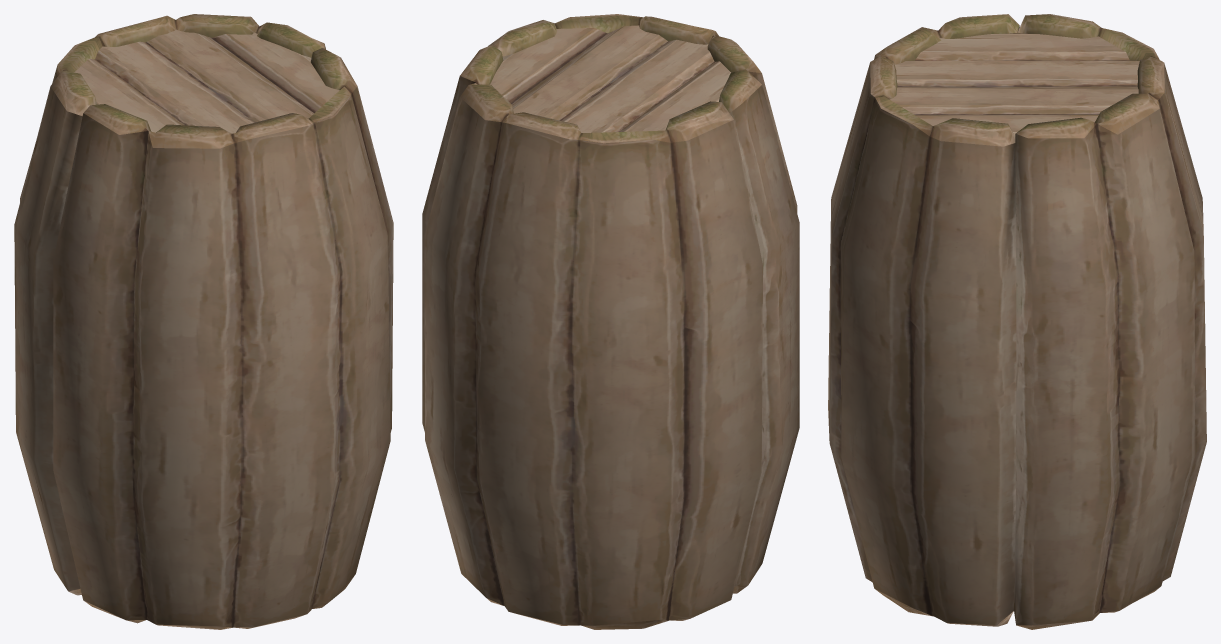
Rendered from Barrel_01.fbx.
3 views of the same model, side by side, from view 1: azimuth 30°, elevation 25°; view 2: azimuth 150°, elevation 25°; view 3: azimuth 270°, elevation 25° (orthographic).
Visible parts, largest first — view 1: Barrel_01_LOD0; view 2: Barrel_01_LOD0; view 3: Barrel_01_LOD0.
Boxes of the visible parts, x1,y1,x2,y2 form: Barrel_01_LOD0: [14, 14, 393, 629]; Barrel_01_LOD0: [422, 14, 799, 629]; Barrel_01_LOD0: [828, 14, 1206, 629].
Size of what is drawn, in the model's own units: 0.7671 by 1.14 by 0.7795.
